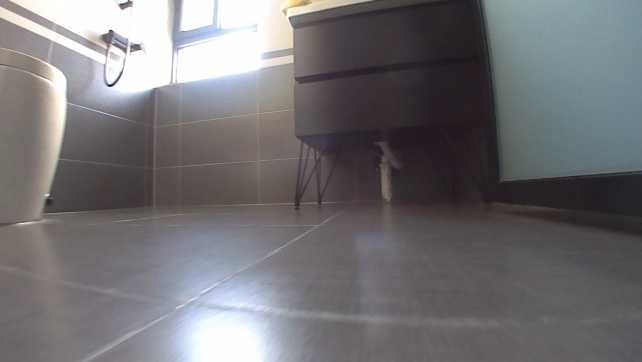toilet: (0, 46, 70, 224)
washstand: (285, 0, 496, 155)
